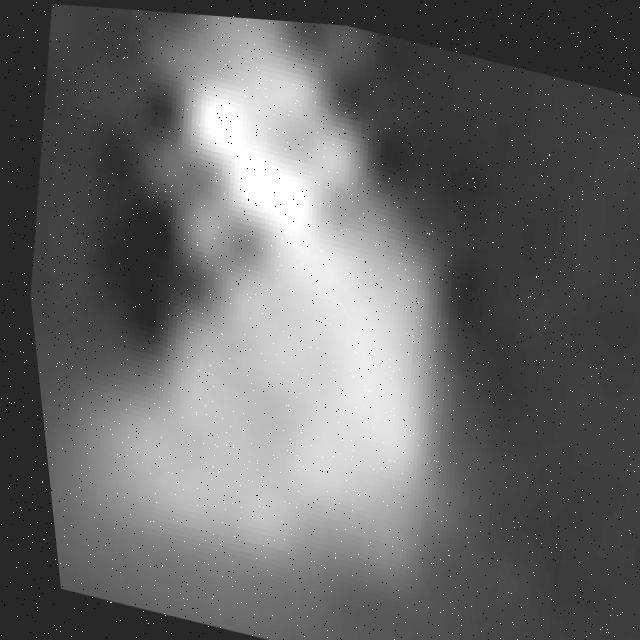person: (9, 1, 534, 640)
